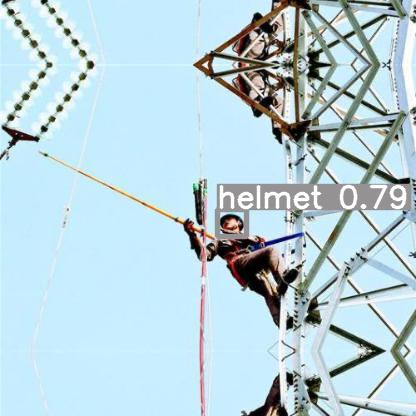helmet: (217, 209, 246, 236)
